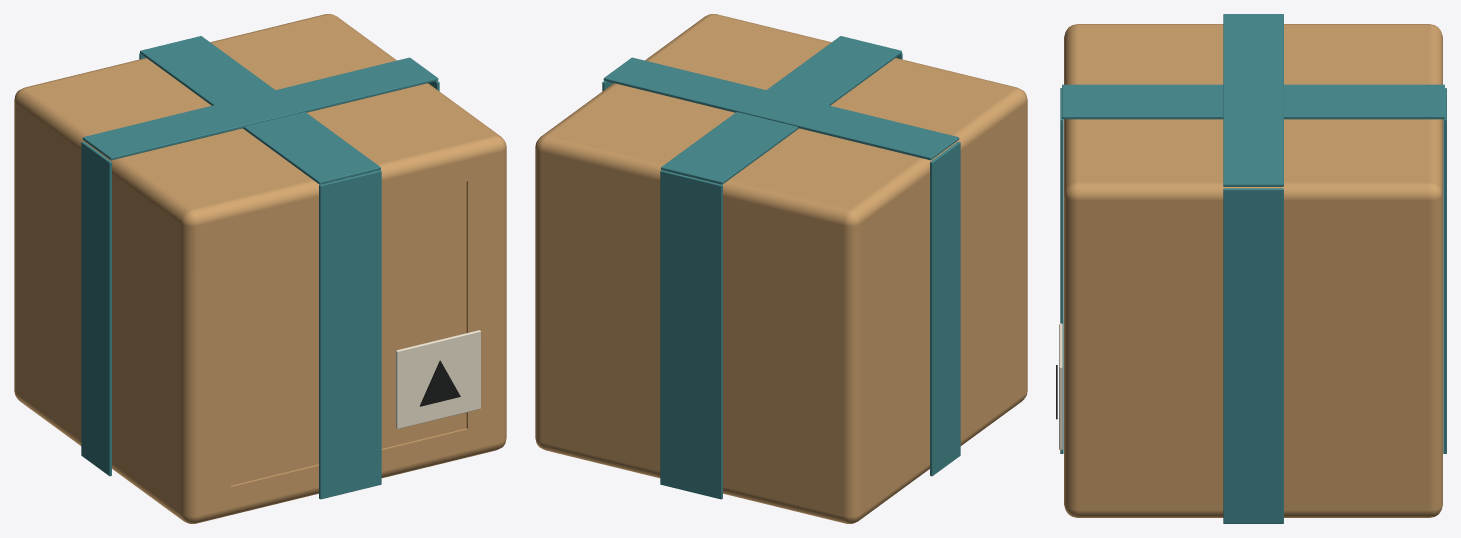
Rendered from play-parcel-large-teal.glb.
3 renders of one model, left to right at view 1: azimuth 30°, elevation 25°; view 2: azimuth 150°, elevation 25°; view 3: azimuth 270°, elevation 25°, orthographic. The views are drawn at different scales.
Visible parts, largest first — view 1: Parcel_Carton, Parcel_Tape_Front_Back_0095, Parcel_Tape_Top_Cross, Parcel_Tape_Sides_-01, Parcel_Tape_Top_Length, Parcel_Paper_Label, Parcel_Label_Triangle; view 2: Parcel_Carton, Parcel_Tape_Front_Back_-0095, Parcel_Tape_Top_Cross, Parcel_Tape_Sides_-01, Parcel_Tape_Top_Length; view 3: Parcel_Carton, Parcel_Tape_Sides_01, Parcel_Tape_Top_Length, Parcel_Tape_Top_Cross, Parcel_Tape_Front_Back_-0095, Parcel_Tape_Front_Back_0095, Parcel_Paper_Label.
Part boxes in pixels (x1=…): Parcel_Carton: x1=14, y1=14, x2=506, y2=523; Parcel_Tape_Front_Back_0095: x1=319, y1=170, x2=381, y2=499; Parcel_Tape_Top_Cross: x1=82, y1=57, x2=438, y2=160; Parcel_Tape_Sides_-01: x1=81, y1=141, x2=111, y2=476; Parcel_Tape_Top_Length: x1=140, y1=36, x2=380, y2=184; Parcel_Paper_Label: x1=395, y1=330, x2=480, y2=429; Parcel_Label_Triangle: x1=420, y1=360, x2=460, y2=406; Parcel_Carton: x1=535, y1=14, x2=1027, y2=523; Parcel_Tape_Front_Back_-0095: x1=660, y1=170, x2=722, y2=499; Parcel_Tape_Top_Cross: x1=603, y1=57, x2=959, y2=160; Parcel_Tape_Sides_-01: x1=930, y1=141, x2=960, y2=476; Parcel_Tape_Top_Length: x1=661, y1=36, x2=901, y2=184; Parcel_Carton: x1=1064, y1=24, x2=1442, y2=517; Parcel_Tape_Sides_01: x1=1223, y1=188, x2=1283, y2=523; Parcel_Tape_Top_Length: x1=1062, y1=84, x2=1444, y2=119; Parcel_Tape_Top_Cross: x1=1223, y1=14, x2=1283, y2=186; Parcel_Tape_Front_Back_-0095: x1=1443, y1=88, x2=1446, y2=453; Parcel_Tape_Front_Back_0095: x1=1060, y1=88, x2=1063, y2=453; Parcel_Paper_Label: x1=1059, y1=323, x2=1062, y2=450.
Size of the model in its own units: 0.2037 by 0.1877 by 0.1957.
